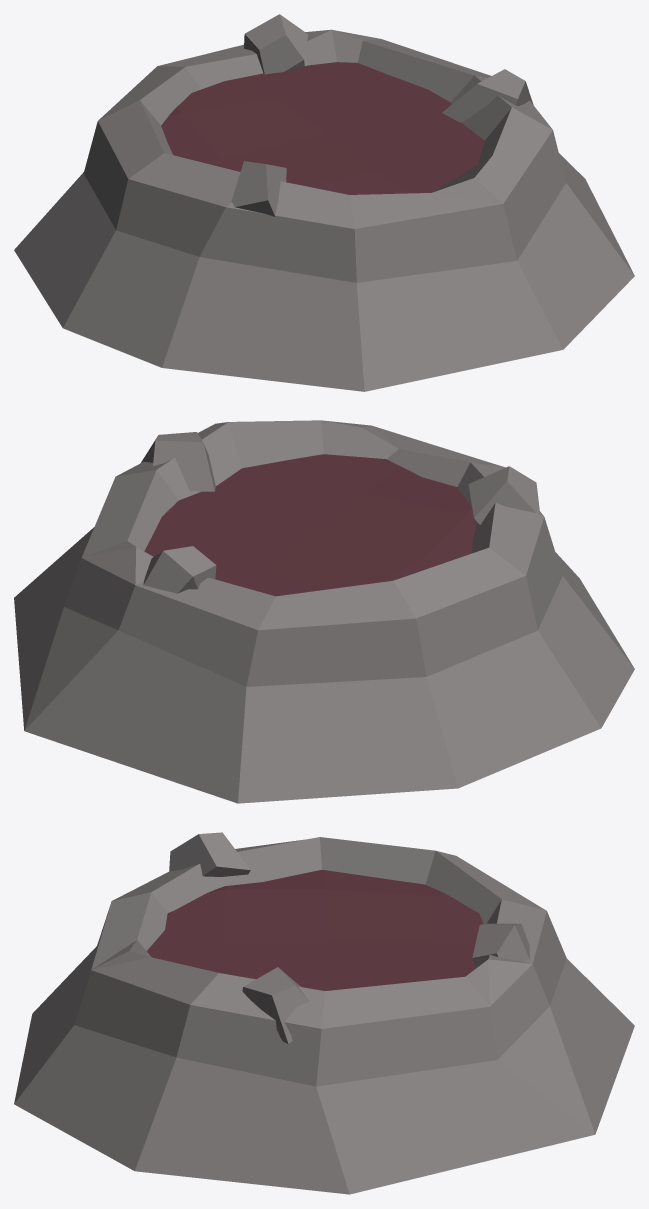
The model's file is crater-water.fbx.
The picture shows the model from 3 angles, top to bottom: view 1: azimuth 30°, elevation 25°; view 2: azimuth 150°, elevation 25°; view 3: azimuth 270°, elevation 25°; orthographic projection. The views are drawn at different scales.
Visible parts, largest first — view 1: crater-water; view 2: crater-water; view 3: crater-water.
Part boxes in pixels (x1,y1,x2,y2): crater-water: [14, 14, 634, 391]; crater-water: [14, 420, 634, 803]; crater-water: [14, 832, 634, 1194].
Bounding box in the file's own units: 1.4 × 0.4228 × 1.38.
